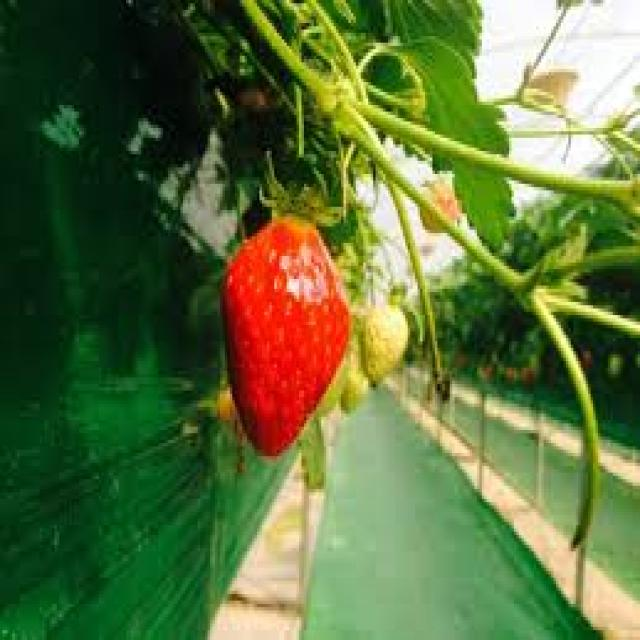immature: (361, 305, 411, 381)
mature: (224, 217, 352, 456)
